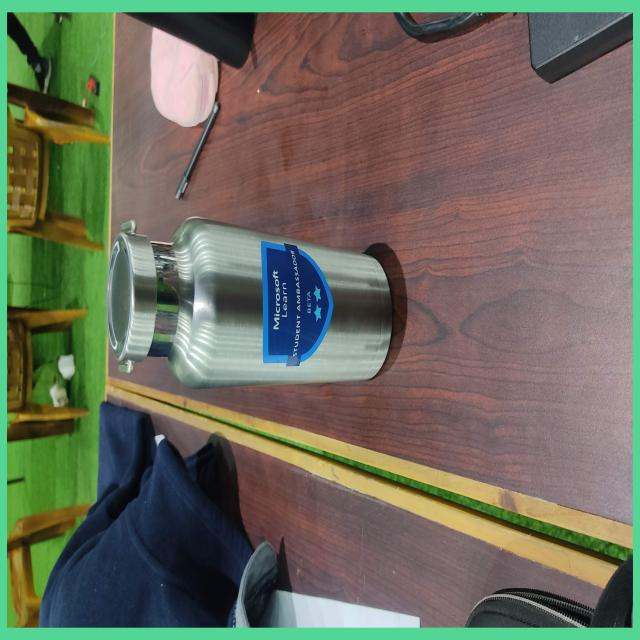Pringles: (106, 214, 394, 389)
